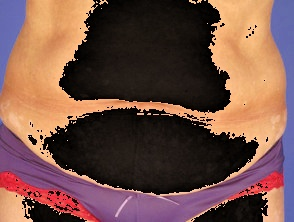vitiligo: (0, 54, 291, 198), (200, 185, 292, 222)
